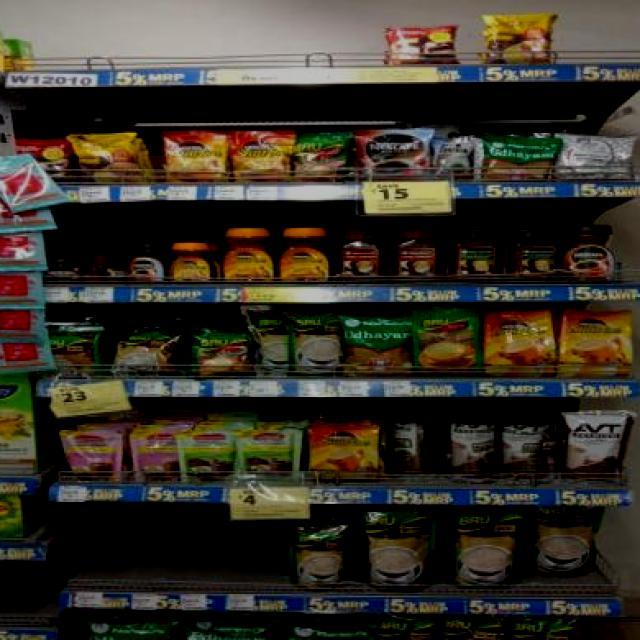Coffee: (560, 310, 632, 378), (484, 312, 554, 376), (354, 130, 429, 180), (310, 425, 378, 479), (220, 229, 276, 283), (561, 225, 614, 282), (276, 229, 331, 283), (233, 132, 289, 180), (168, 134, 226, 180), (170, 242, 210, 281), (126, 244, 163, 280), (40, 258, 80, 280)
